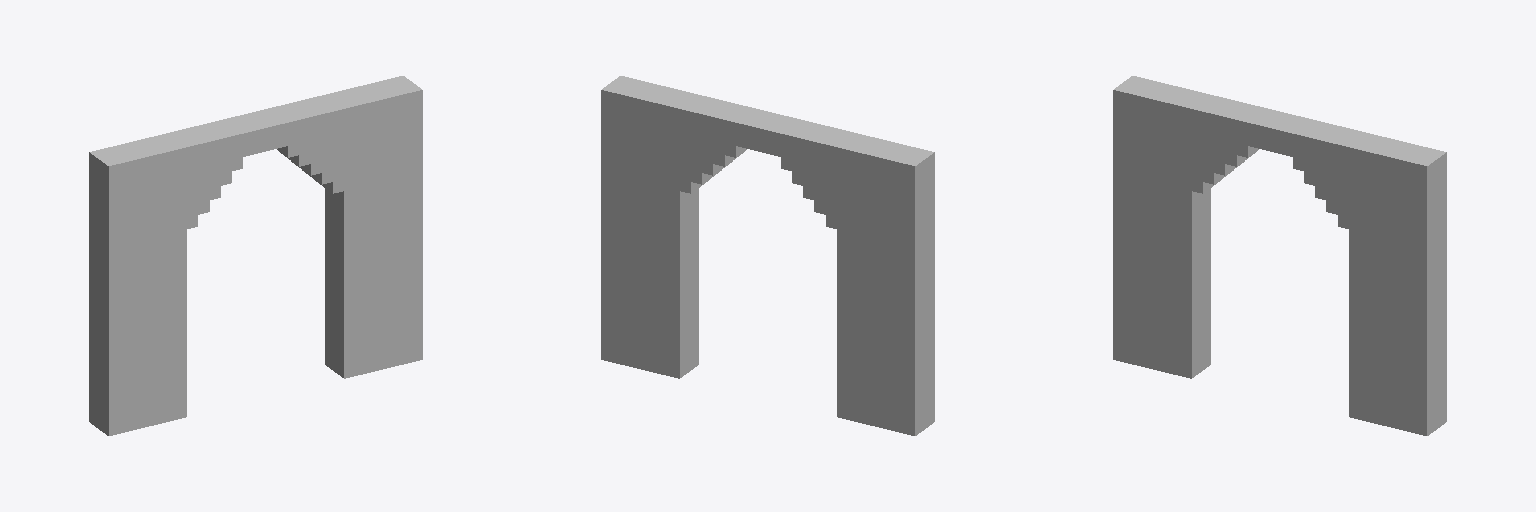
Rendered from door1.obj.
The picture shows the model from 3 angles: view 1: azimuth 30°, elevation 25°; view 2: azimuth 150°, elevation 25°; view 3: azimuth 330°, elevation 25°; orthographic projection.
Visible parts, largest first — view 1: object 1; view 2: object 1; view 3: object 1.
Part boxes in pixels (x1,y1,x2,y2): object 1: (89, 76, 422, 435); object 1: (601, 76, 934, 435); object 1: (1113, 76, 1446, 435).
Bounding box in the file's own units: 2.8 × 2.3 × 0.3.